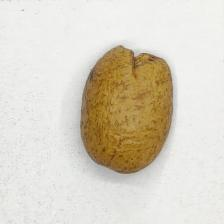NG: (116, 43, 165, 83)
